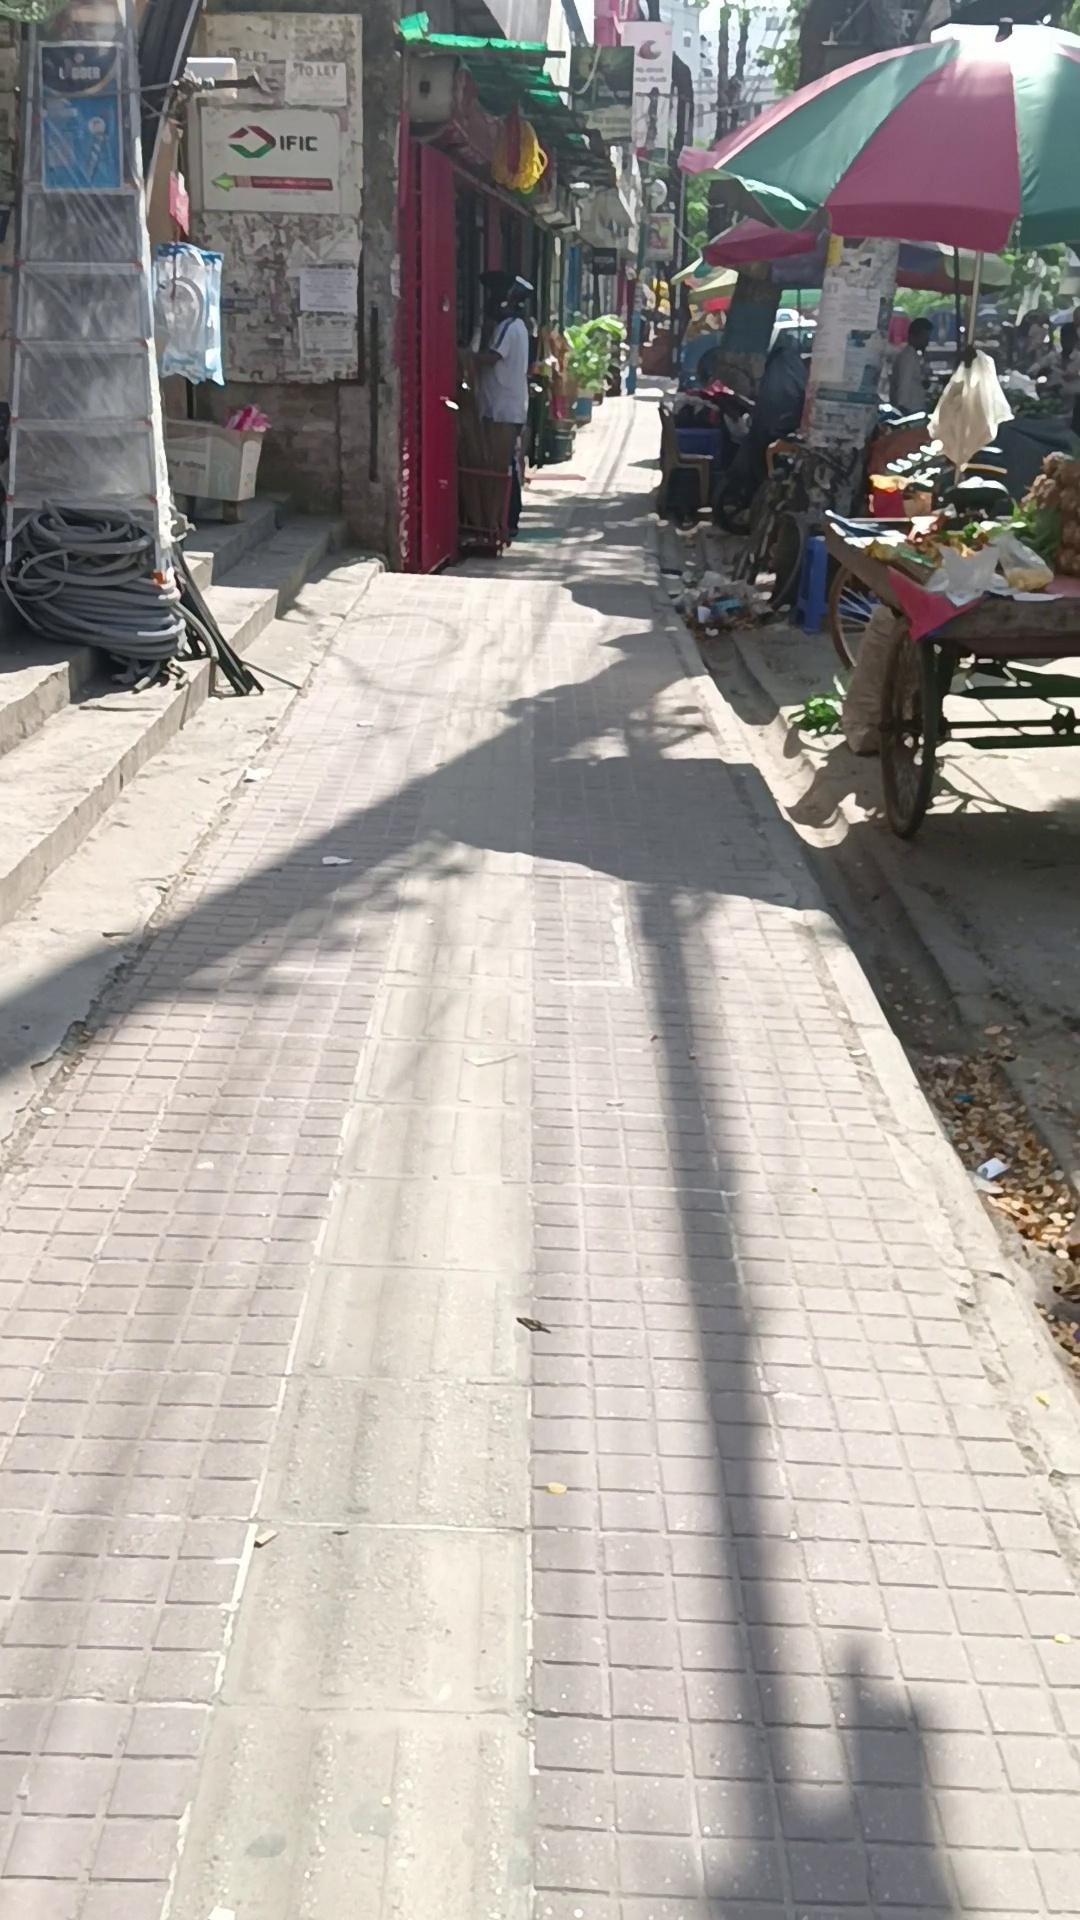Broken-road: (644, 512, 1077, 1573)
Cat: (160, 409, 268, 520)
Curb: (460, 269, 533, 555)
Fence: (819, 505, 1077, 839)
Garbage: (3, 393, 1080, 1916)
Motorcycle: (0, 505, 344, 928), (0, 655, 75, 756)
Obstacle: (170, 3, 406, 564)
